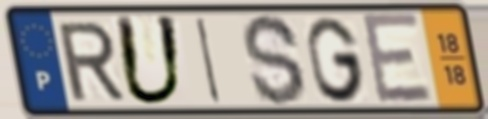E: (357, 10, 436, 108)
G: (303, 14, 369, 105)
I: (193, 14, 224, 106)
R: (54, 18, 128, 103)
S: (239, 11, 310, 109)
U: (111, 13, 188, 109)
